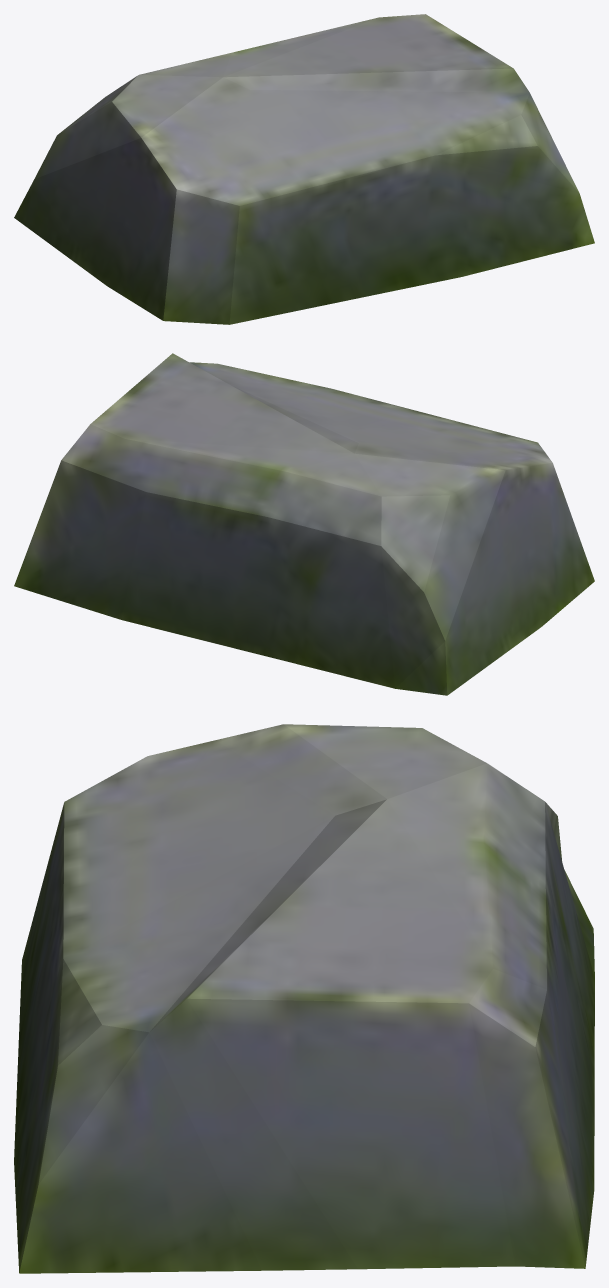
Rendered from Pebble_Square_2.gltf.
3 renders of one model, top to bottom at view 1: azimuth 30°, elevation 25°; view 2: azimuth 150°, elevation 25°; view 3: azimuth 270°, elevation 25°, orthographic. The views are drawn at different scales.
Visible parts, largest first — view 1: Pebble_Square_2; view 2: Pebble_Square_2; view 3: Pebble_Square_2.
Boxes of the visible parts, x1,y1,x2,y2 form: Pebble_Square_2: (14, 14, 594, 324); Pebble_Square_2: (14, 353, 594, 695); Pebble_Square_2: (14, 724, 594, 1273).
Size of the model in its own units: 0.3911 by 0.1404 by 0.2803.
Materials: 1 (1 with a texture image).
